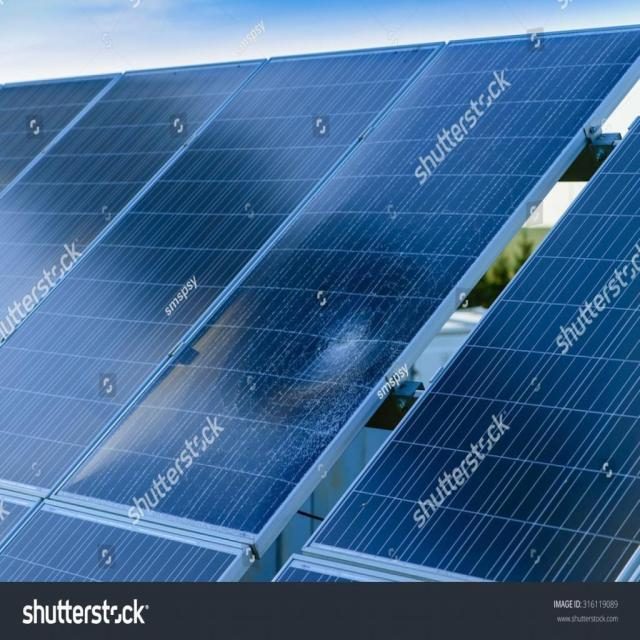cracked: (88, 14, 634, 539)
